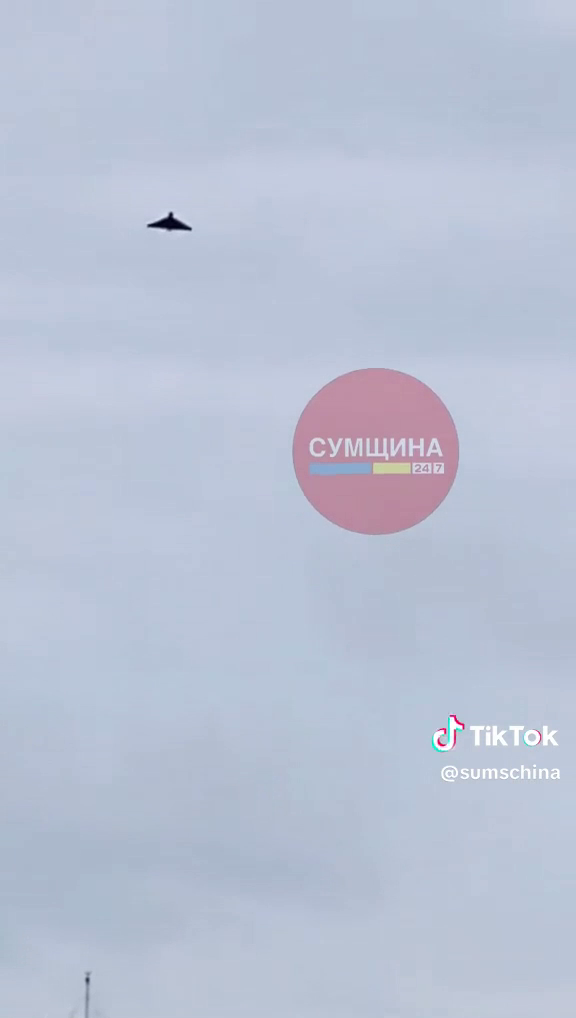shahed: (143, 204, 199, 241)
